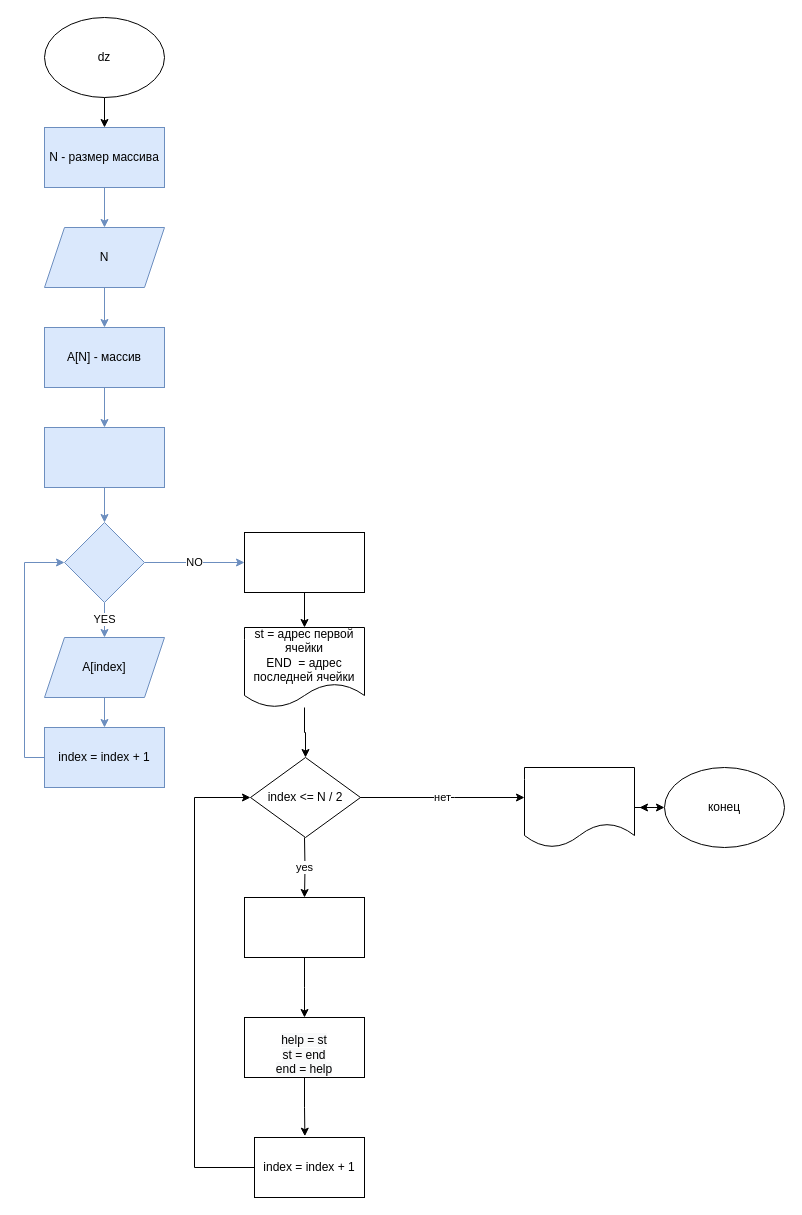
Image size: 802x1215. Some labels were removed from this diagram. Each missing label, with the box of its shape:
index < N: (64, 522, 144, 602)
index = 0: (44, 426, 164, 488)
index = 0 st = 0 END = n-1: (244, 532, 364, 592)
st = index: (244, 896, 364, 958)
номерация массива перевернута: (524, 766, 634, 848)
